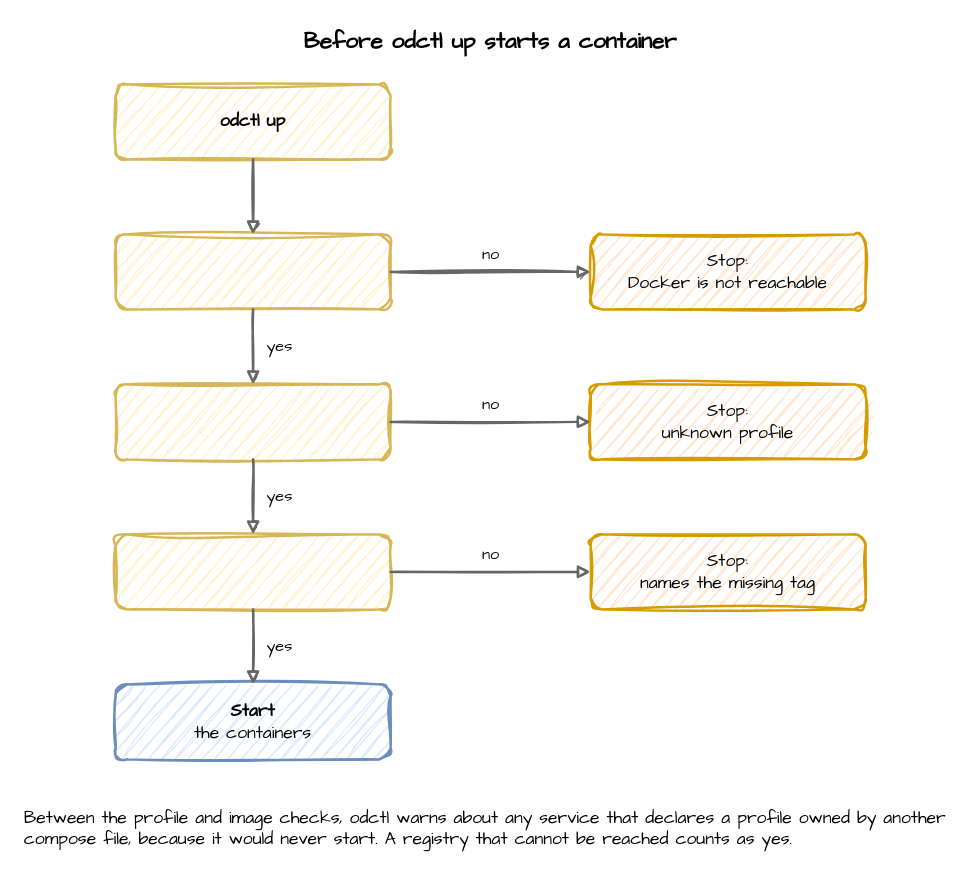
Some shapes in this 980 by 880 pixel diagram are drawn without their labels. Each missing label, with the box of its shape:
Docker reachable?: (114, 232, 391, 310)
Images published for TAG?: (114, 532, 391, 610)
Profiles in registry.yml?: (114, 382, 391, 460)
